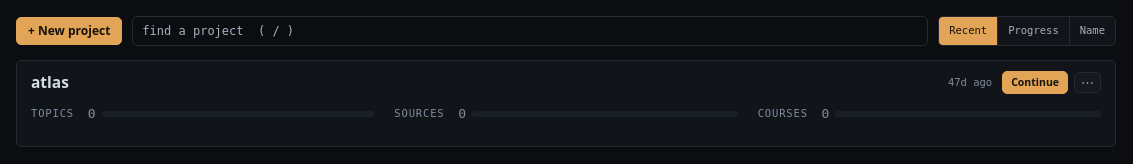
says which search found nothing rather than showing an empty board
The image size is (1133, 164).
Expected: the link "atlas" is shown, x1=31 y1=71 x2=69 y2=94
Type "fizzbuzz" into the search field labelled "find a project ( / )".
click(530, 31); type("fizzbuzz")  # box x1=132 y1=16 x2=928 y2=46
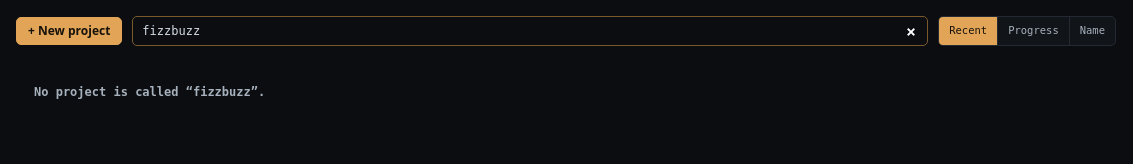
Expected: the text "No project is called “fizzbuzz”." is shown, x1=34 y1=85 x2=265 y2=99
